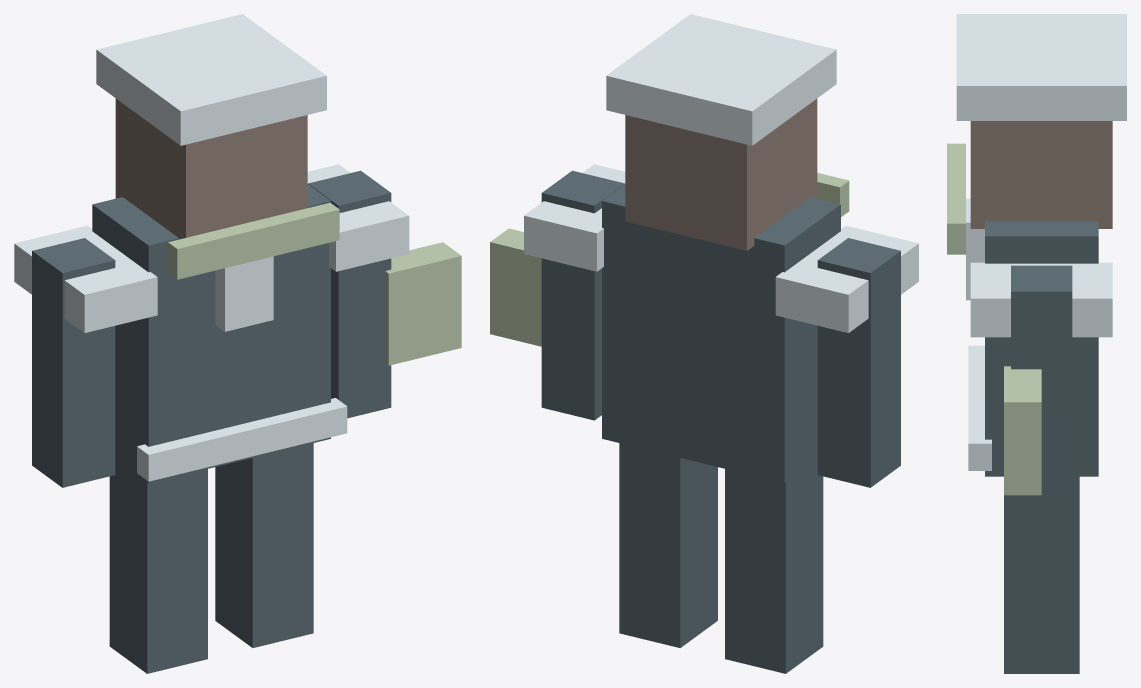
Rendered from 20_calder_signalborn_navigator_at_quarantine.glb.
3 views of the same model, side by side, from view 1: azimuth 30°, elevation 25°; view 2: azimuth 150°, elevation 25°; view 3: azimuth 270°, elevation 25° (orthographic).
Parts seen in each view (by area): view 1: Calder Signalborn, Navigator at Quarantine; view 2: Calder Signalborn, Navigator at Quarantine; view 3: Calder Signalborn, Navigator at Quarantine.
Part boxes in pixels (x1,y1,x2,y2): Calder Signalborn, Navigator at Quarantine: (14, 14, 461, 673); Calder Signalborn, Navigator at Quarantine: (490, 14, 918, 673); Calder Signalborn, Navigator at Quarantine: (947, 14, 1126, 673).
Size of the model in its own units: 1.01 by 1.4 by 0.3919.
